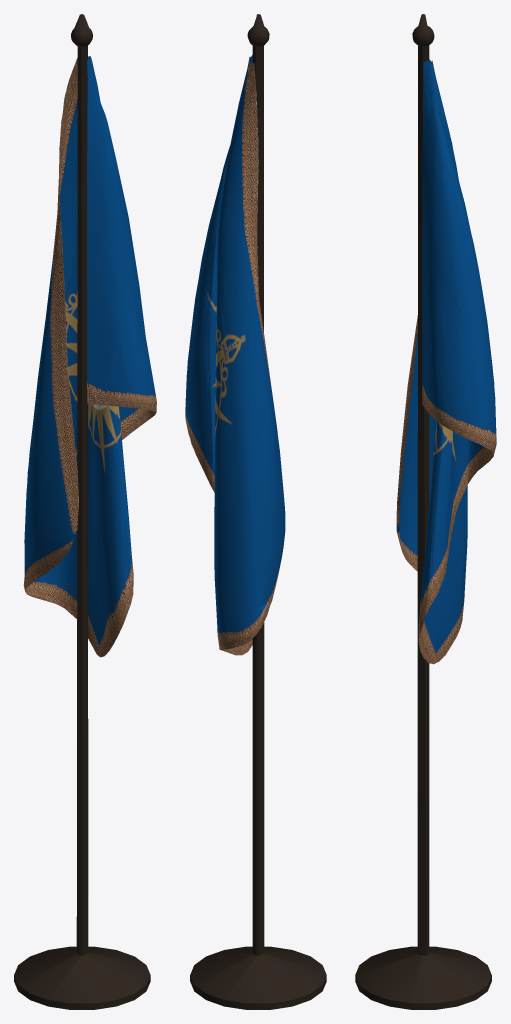
Rendered from Flag 2.FBX.
The picture shows the model from 3 angles, left to right: view 1: azimuth 30°, elevation 25°; view 2: azimuth 150°, elevation 25°; view 3: azimuth 330°, elevation 25°; orthographic projection.
Parts seen in each view (by area): view 1: Flag 2; view 2: Flag 2; view 3: Flag 2.
Part boxes in pixels (bbox=[...]): Flag 2: bbox=[14, 14, 156, 1009]; Flag 2: bbox=[185, 14, 326, 1009]; Flag 2: bbox=[355, 14, 496, 1009].
Bounding box in the file's own units: 37.95 × 272 × 34.91.
Materials: 1 (1 with a texture image).
